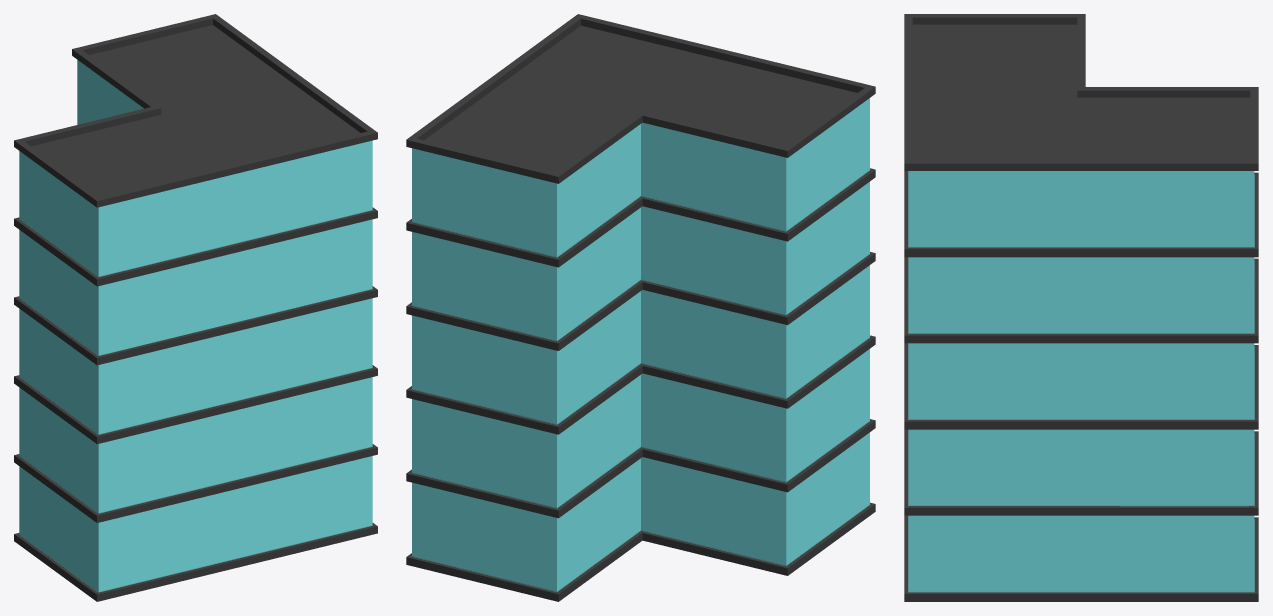
The model's file is BigL.fbx.
3 views of the same model, side by side, from view 1: azimuth 30°, elevation 25°; view 2: azimuth 150°, elevation 25°; view 3: azimuth 270°, elevation 25° (orthographic). The views are drawn at different scales.
Visible parts, largest first — view 1: BigLShape; view 2: BigLShape; view 3: BigLShape.
Part boxes in pixels (x1,y1,x2,y2): BigLShape: (14, 14, 377, 601); BigLShape: (406, 14, 875, 601); BigLShape: (904, 14, 1258, 601).
Bounding box in the file's own units: 8.2 × 11.18 × 8.2.
